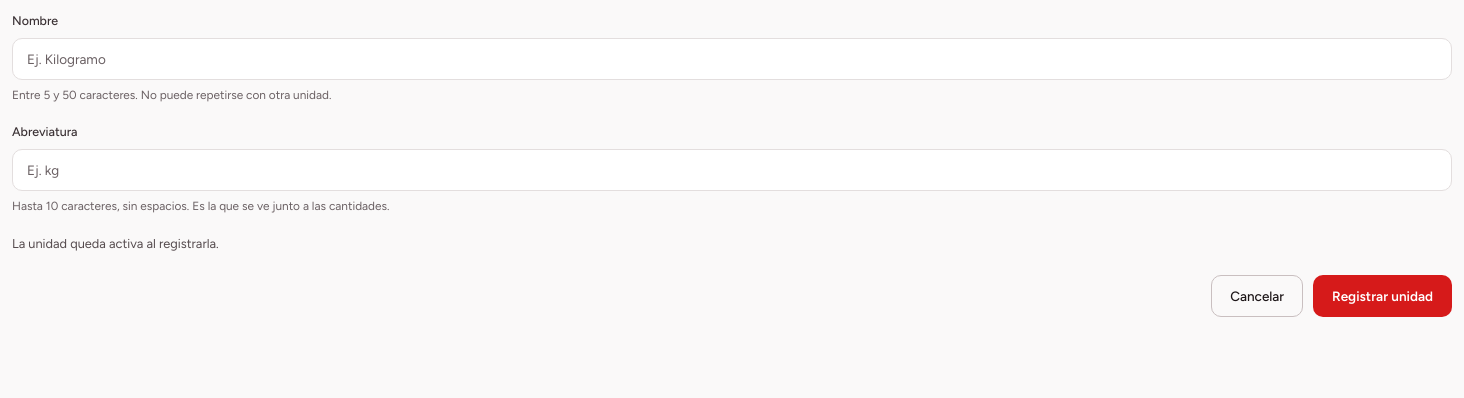
Scenario: CreateUnitForm › shows the api error ({})
Type "Gramo" into the field labelled "Nombre" at x=732, y=59, box x1=12 y1=38 x2=1452 y2=80
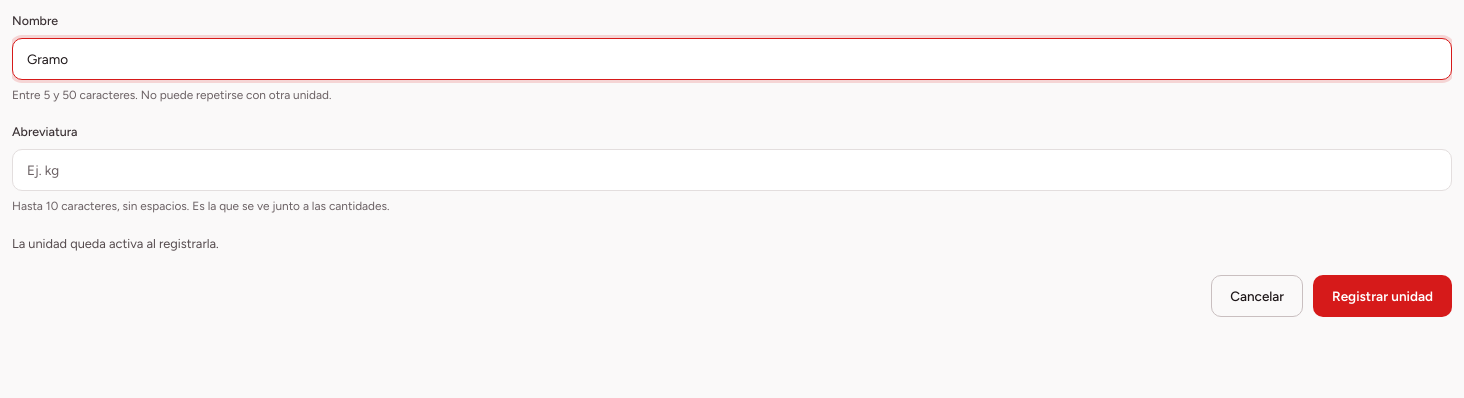
Type "g" into the field labelled "Abreviatura" at x=732, y=170, box x1=12 y1=149 x2=1452 y2=191
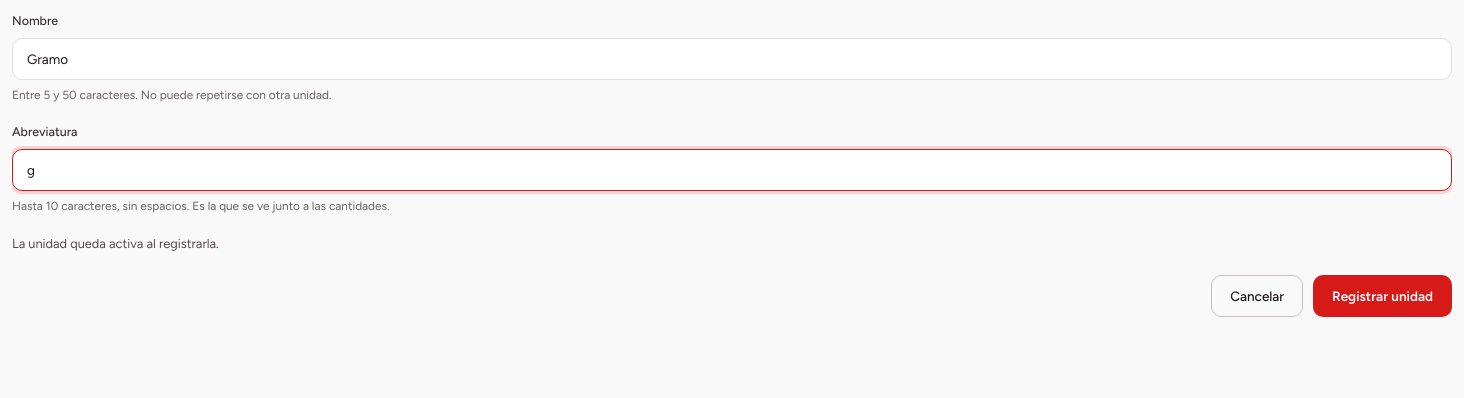
Click the button "Registrar unidad" at x=1383, y=296, box x1=1313 y1=275 x2=1452 y2=317
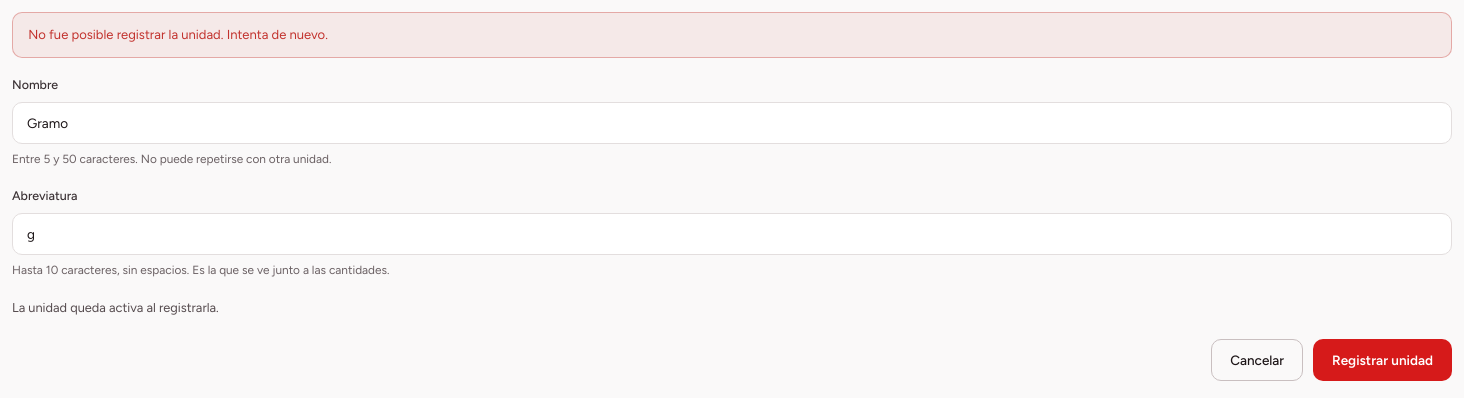
Now the message reads "No fue posible registrar la unidad. Intenta de nuevo.", box x1=28 y1=27 x2=328 y2=42
